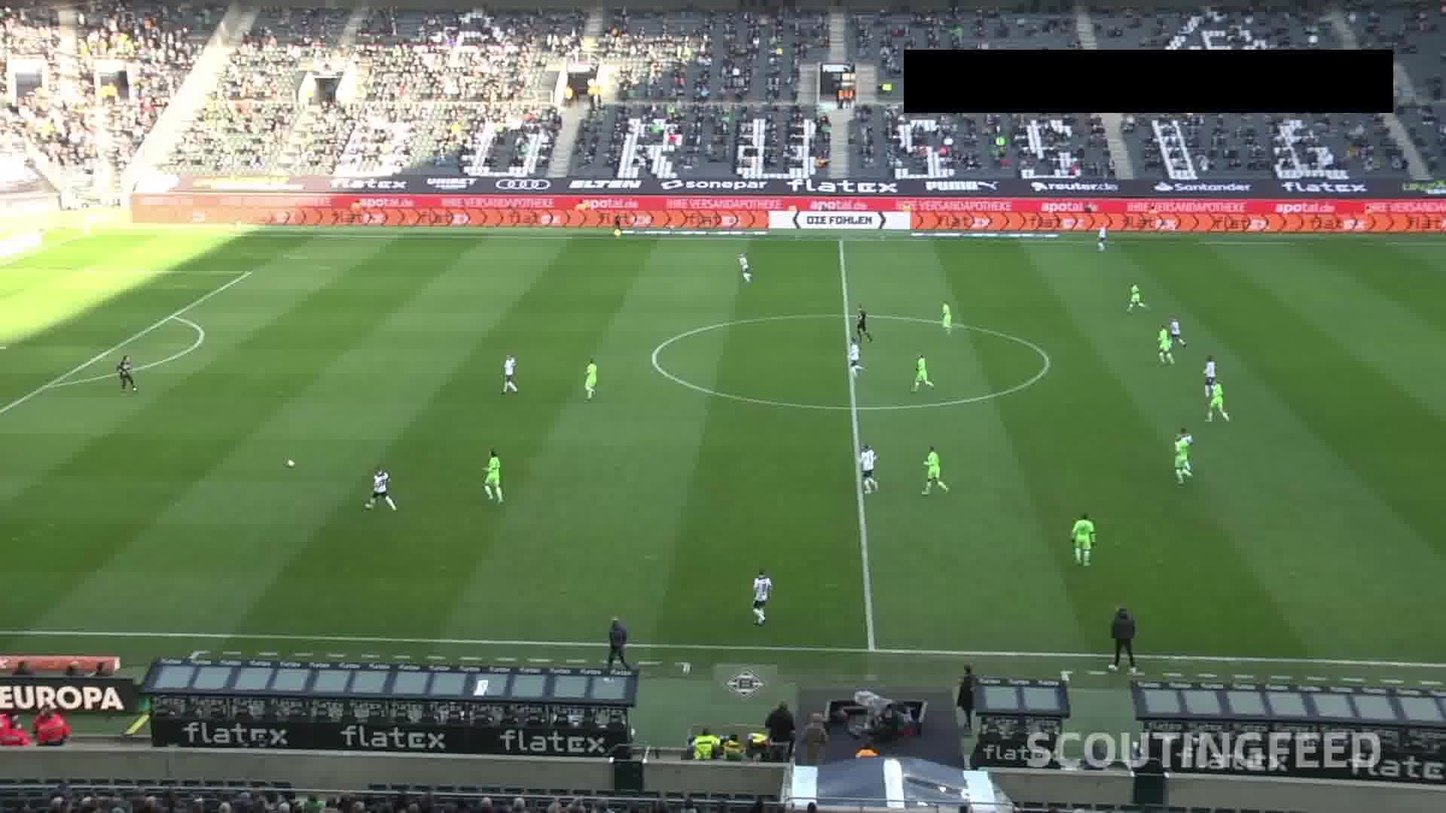ball: (282, 454, 303, 477)
coach_staff: (1093, 602, 1136, 666), (597, 615, 629, 672)
goalkeeper: (114, 350, 139, 399)
player: (1064, 502, 1096, 566), (363, 462, 398, 514), (918, 442, 950, 497), (481, 440, 506, 503), (749, 562, 773, 625), (575, 353, 599, 399), (1170, 309, 1196, 351), (856, 443, 877, 491), (913, 349, 935, 394), (497, 349, 518, 395), (842, 334, 865, 376), (1208, 385, 1234, 422), (1182, 424, 1202, 472), (729, 248, 754, 284), (1202, 355, 1226, 391), (1088, 218, 1111, 252), (1154, 320, 1169, 370), (1125, 279, 1146, 314), (938, 299, 955, 340), (1170, 432, 1182, 482)
referee: (849, 299, 875, 349), (610, 211, 624, 243)
